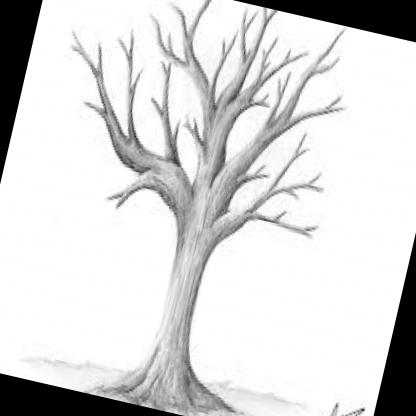branch_sharp: (31, 0, 367, 255)
root_upside: (88, 346, 253, 416)
trunk_bark: (148, 259, 212, 344)
